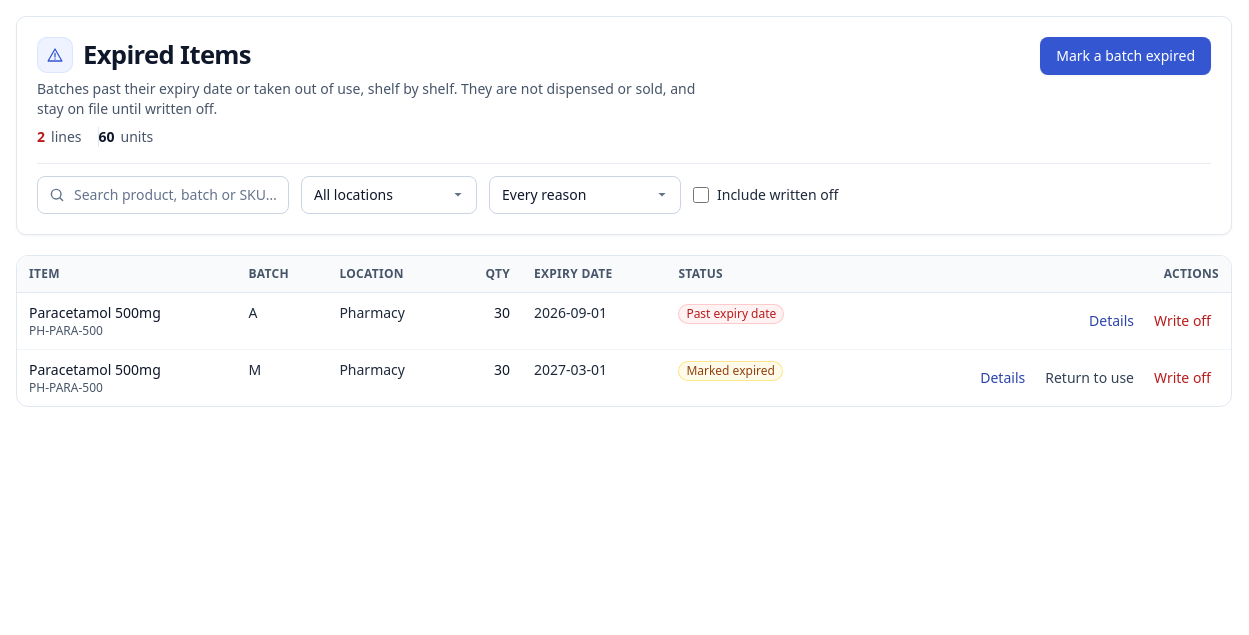
Test case: Expired Items › opens a batch's details and movement history
The width and height of the screenshot is (1249, 635).
Click the button "Details" in the row of "2027-03-01" at x=1003, y=378, box [972,360,1033,396]
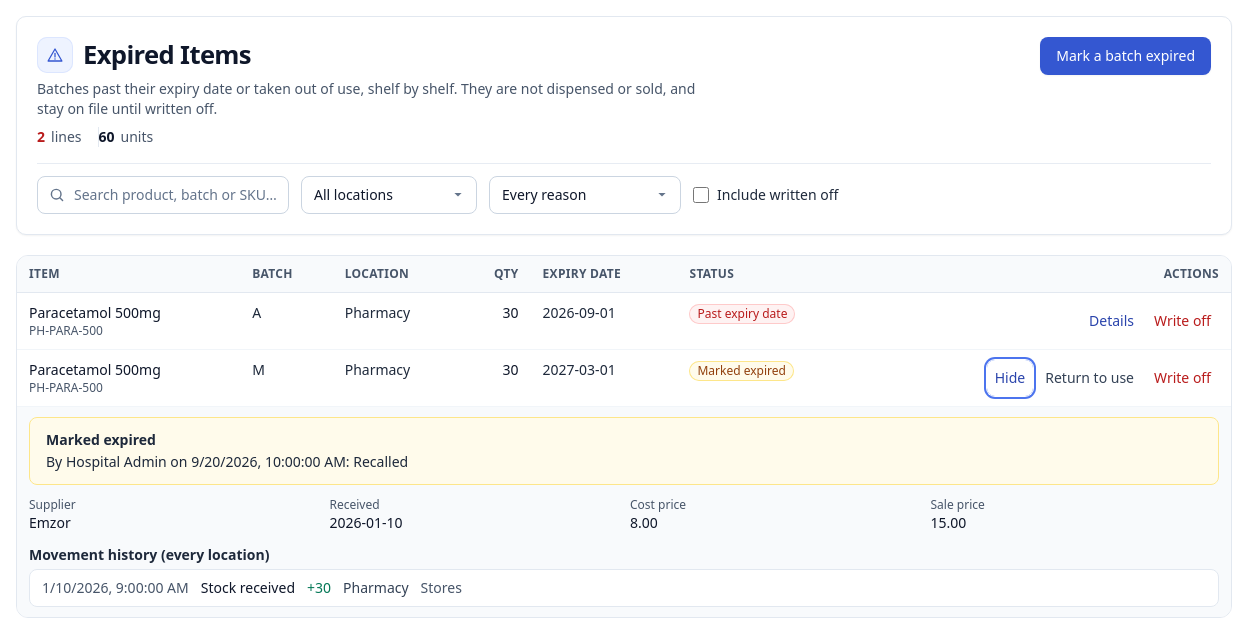
Check: the text "By Hospital Admin on 9/20/2026, 10:00:00 AM: Recalled" is shown, box [46,452,408,471]
Check: the text "Stock received" is shown, box [201,578,295,598]
Check: the text "Emzor" is shown, box [29,513,71,532]
